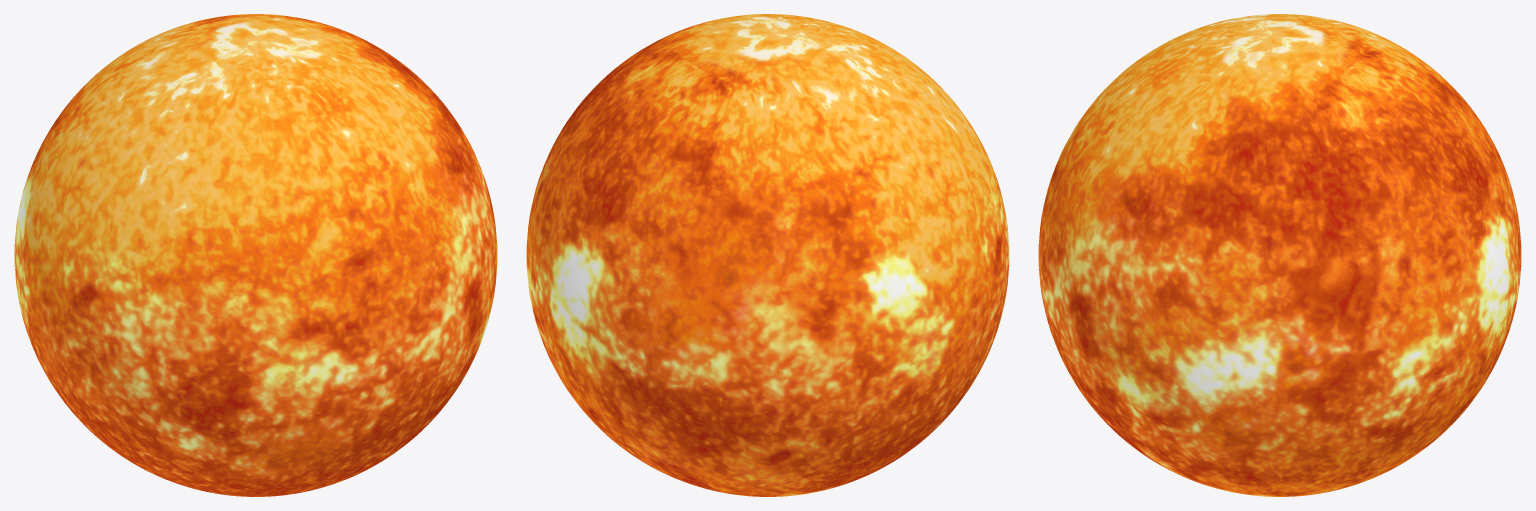
The model's file is Sun.glb.
The picture shows the model from 3 angles, left to right: view 1: azimuth 30°, elevation 25°; view 2: azimuth 150°, elevation 25°; view 3: azimuth 270°, elevation 25°; orthographic projection.
Visible parts, largest first — view 1: Sun; view 2: Sun; view 3: Sun.
Part boxes in pixels (x1=…): Sun: x1=14, y1=14, x2=497, y2=496; Sun: x1=526, y1=14, x2=1009, y2=496; Sun: x1=1038, y1=14, x2=1521, y2=496.
Bounding box in the file's own units: 2 × 2 × 2.
Materials: 1 (1 with a texture image).
